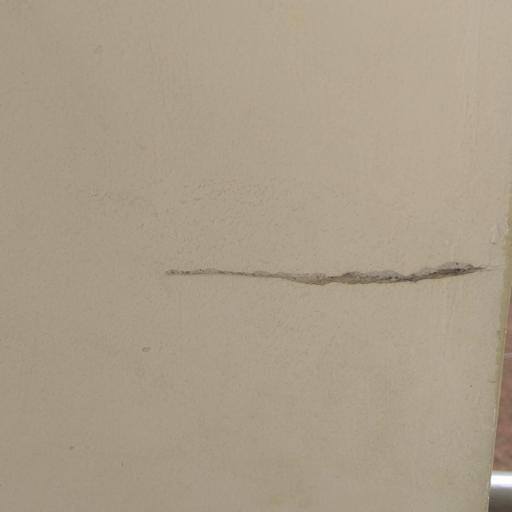stain: (142, 216, 512, 359)
